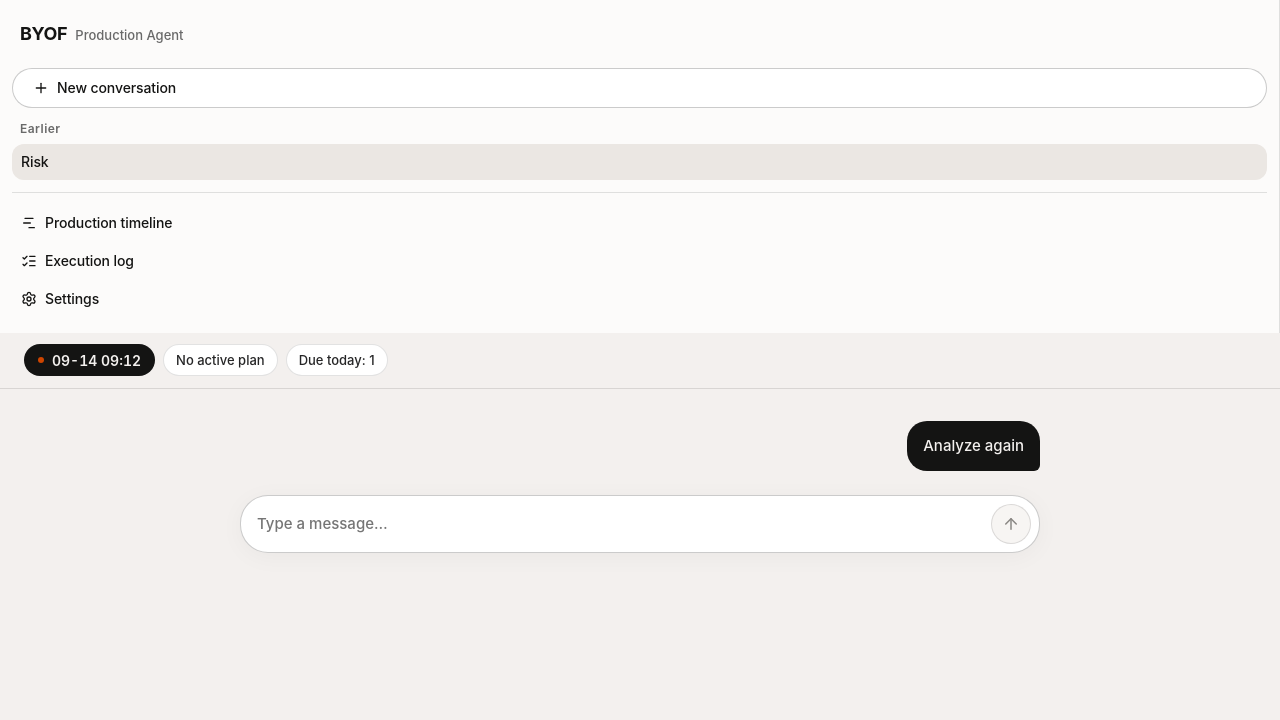
Test: conversation workbench › when the same text is sent again the new message shows its submission state until the matching request is recorded
The width and height of the screenshot is (1280, 720).
Expected: the text "Analyze again" is shown, [923,433,1024,459]
In the text box named "Request to the Production Agent": (620, 524) [257,504,983,544], type "Analyze again"
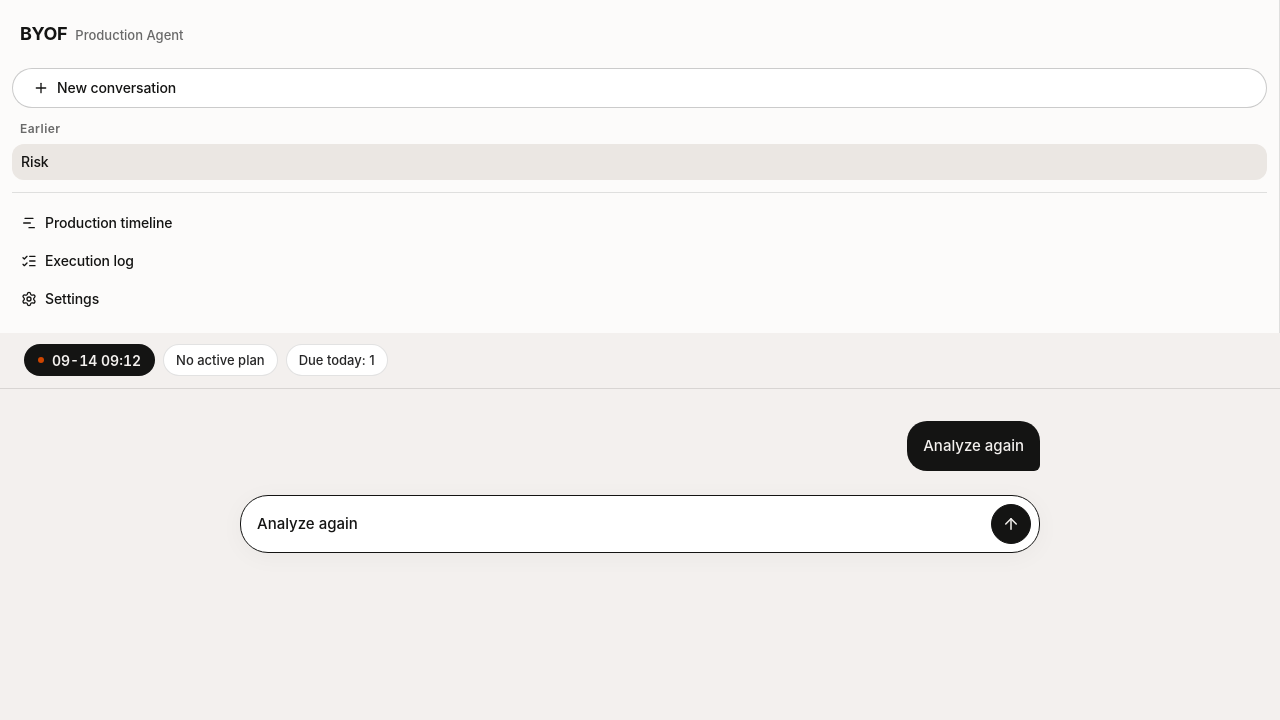
Click the button named "Send to the Production Agent": (1011, 524) [991,504,1031,544]
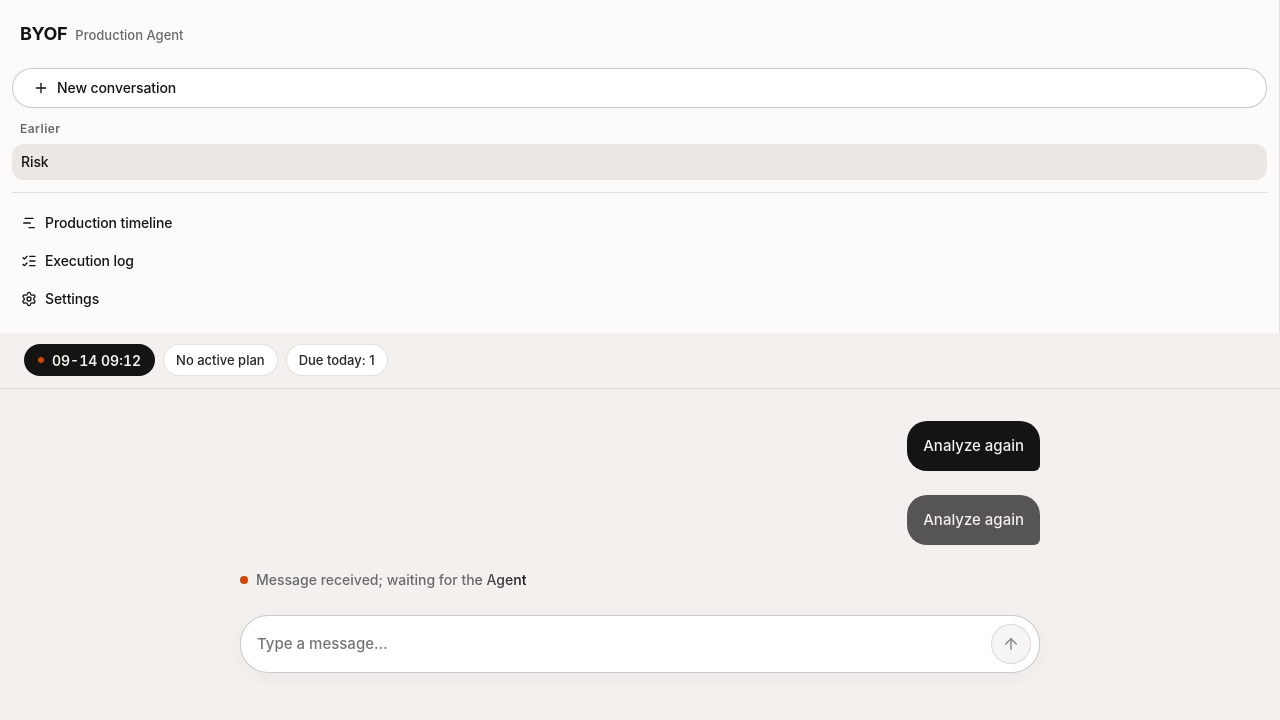
Expected: the element named "Message being sent" reads "Analyze again", [923,510,1024,529]
Expected: the text "Message received; waiting for the Agent" is shown, [256,569,526,591]
